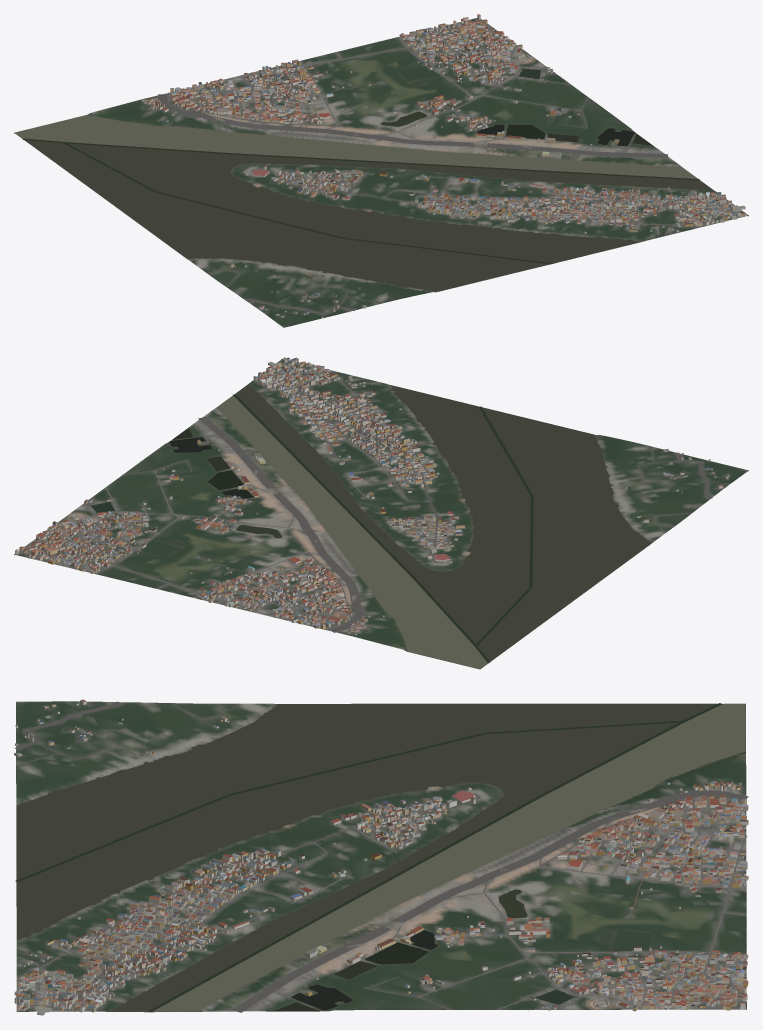
3 renders of one model, top to bottom at view 1: azimuth 30°, elevation 25°; view 2: azimuth 150°, elevation 25°; view 3: azimuth 270°, elevation 25°, orthographic. The views are drawn at different scales.
Parts seen in each view (by area): view 1: water, ground, buildings, roads; view 2: water, ground, buildings, roads; view 3: water, ground, buildings, roads.
Boxes of the visible parts, x1,y1,x2,y2 form: water: [15, 66, 713, 291]; ground: [14, 18, 748, 327]; buildings: [141, 14, 746, 318]; roads: [150, 22, 747, 315]; water: [91, 384, 651, 668]; ground: [14, 358, 748, 669]; buildings: [15, 357, 729, 635]; roads: [24, 367, 712, 632]; water: [15, 703, 745, 1012]; ground: [16, 701, 746, 1012]; buildings: [14, 699, 748, 1015]; roads: [14, 701, 748, 1012].
Bounding box in the file's own units: 1420 × 21.76 × 1411.
